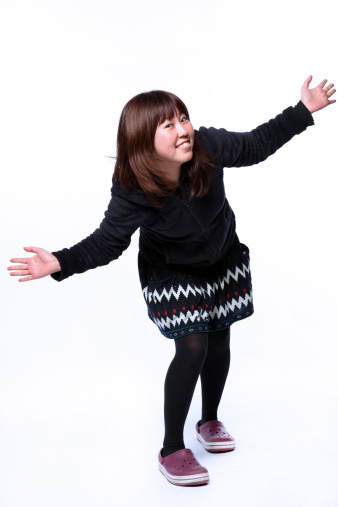em pe: (0, 77, 335, 469)
